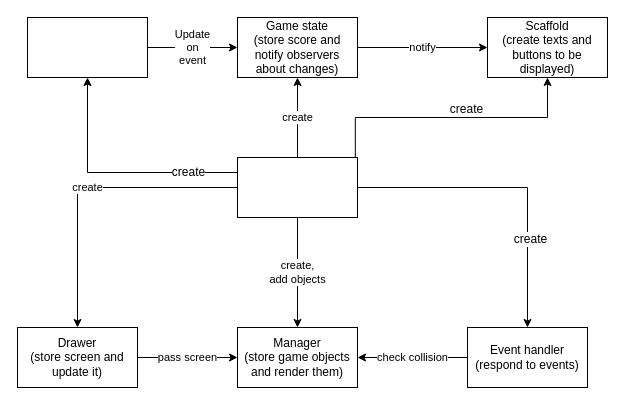
This 625x405 diagram has some shape labels left out. The box of each missing label's shape, as (x1, y1, x2, y2) in pixels:
Game (initialize everything and process main loop): (236, 156, 358, 218)
Ticker (stores and fires recurring events): (26, 16, 148, 78)
